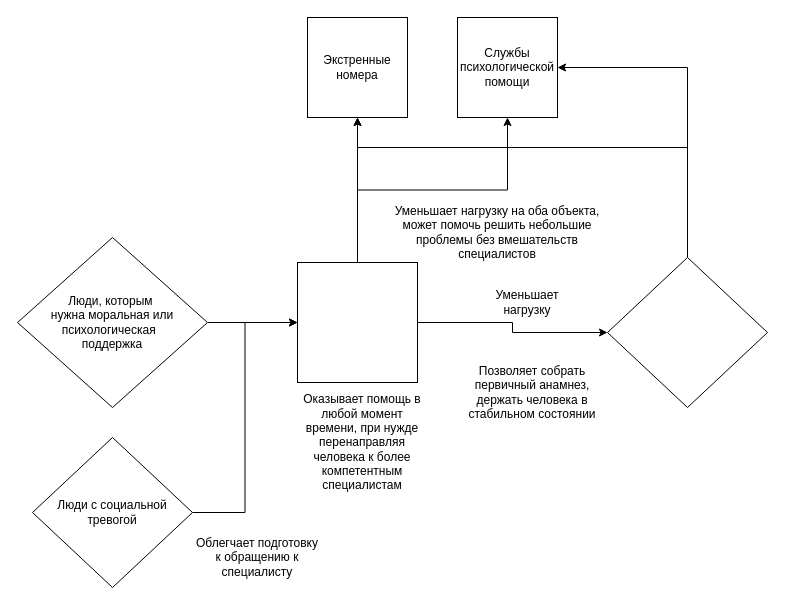
Image size: 785x605. Some labels were removed from this diagram. Here are the shapes that lost their labels. From the top down, the centre of each, then its label:
[357,322]: Чат бот психолог
[687,332]: Профессиональные психологи
